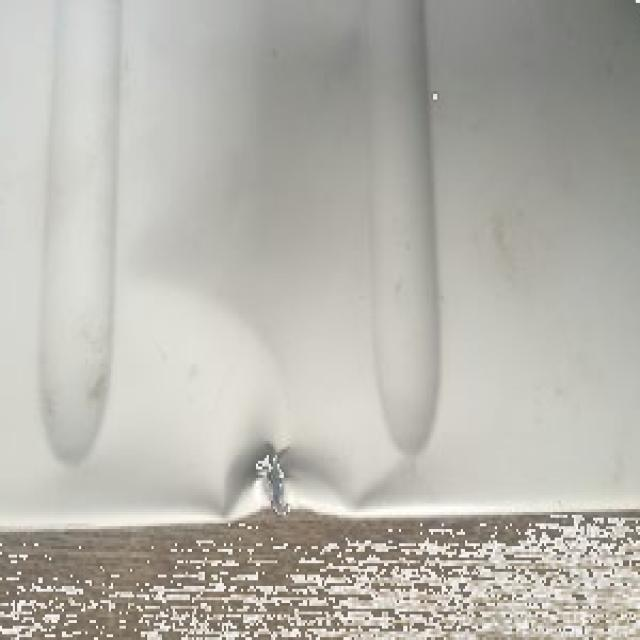crack: (253, 442, 298, 522)
